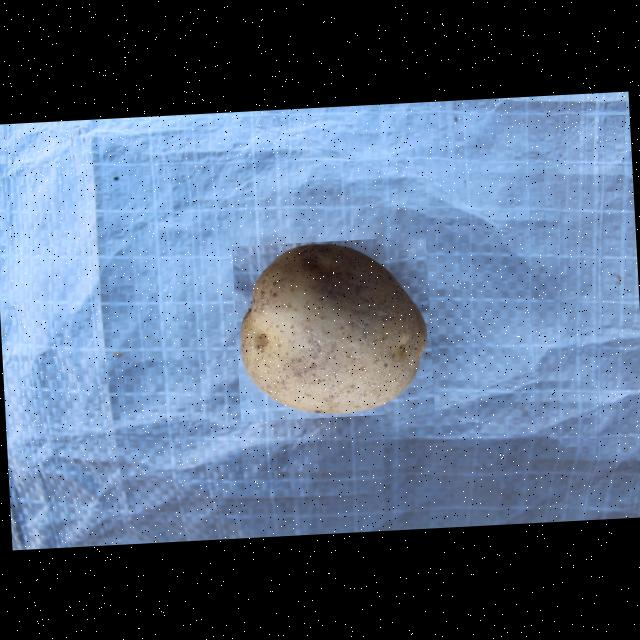Diseased-fungal potato: (231, 236, 434, 422)
